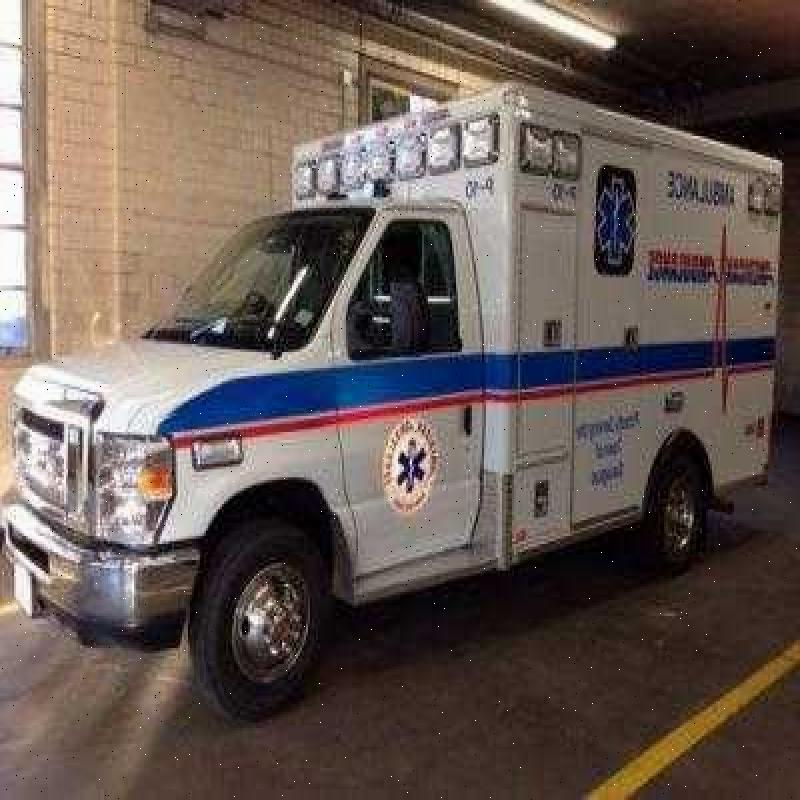AmbulanceSiren: (280, 98, 502, 215)
